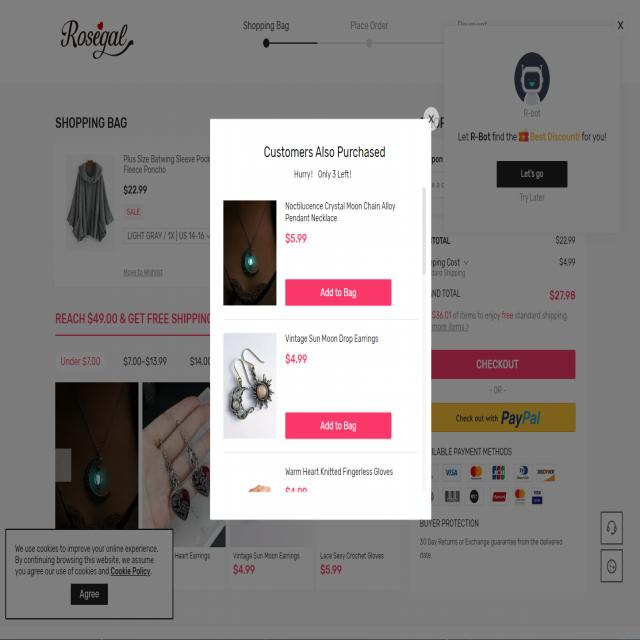sneaking: (206, 109, 438, 528), (5, 525, 176, 625), (290, 164, 364, 186)
